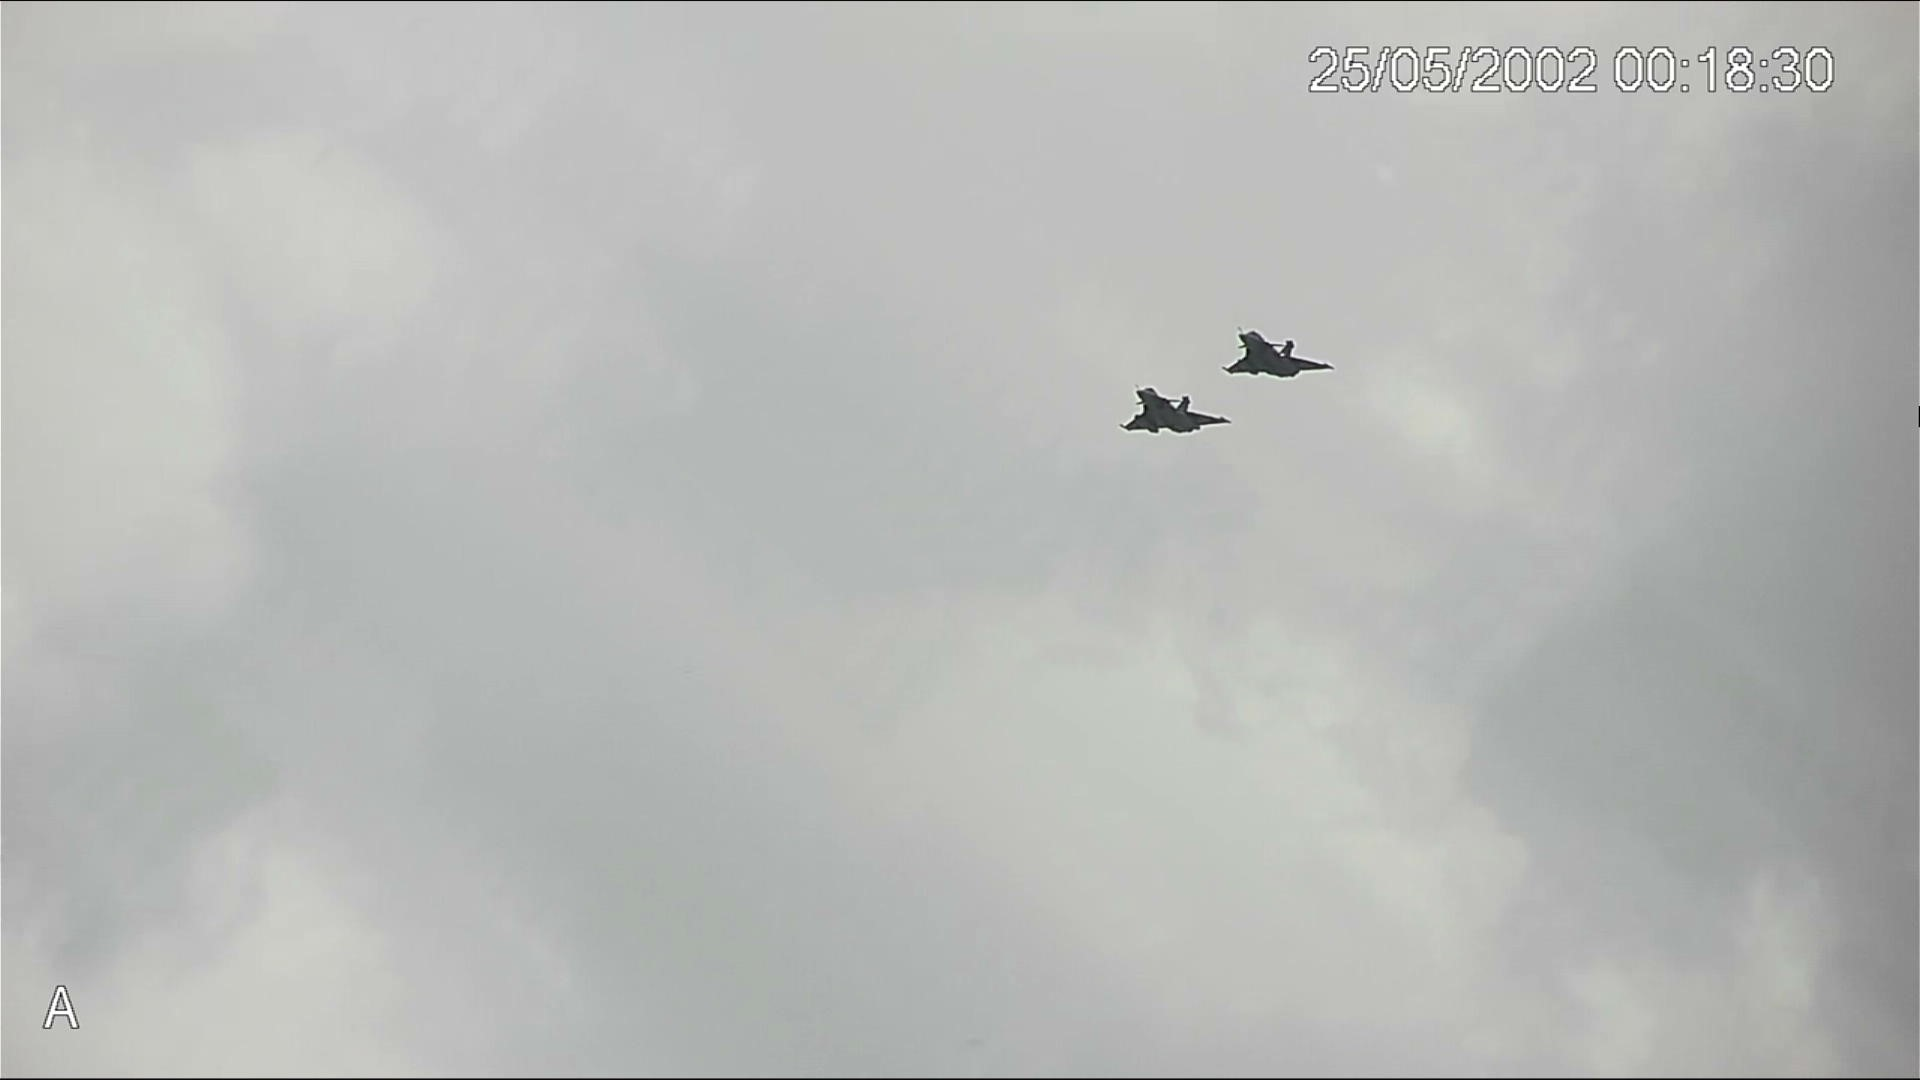SU_30: (1211, 326, 1335, 392), (1116, 386, 1228, 440)
